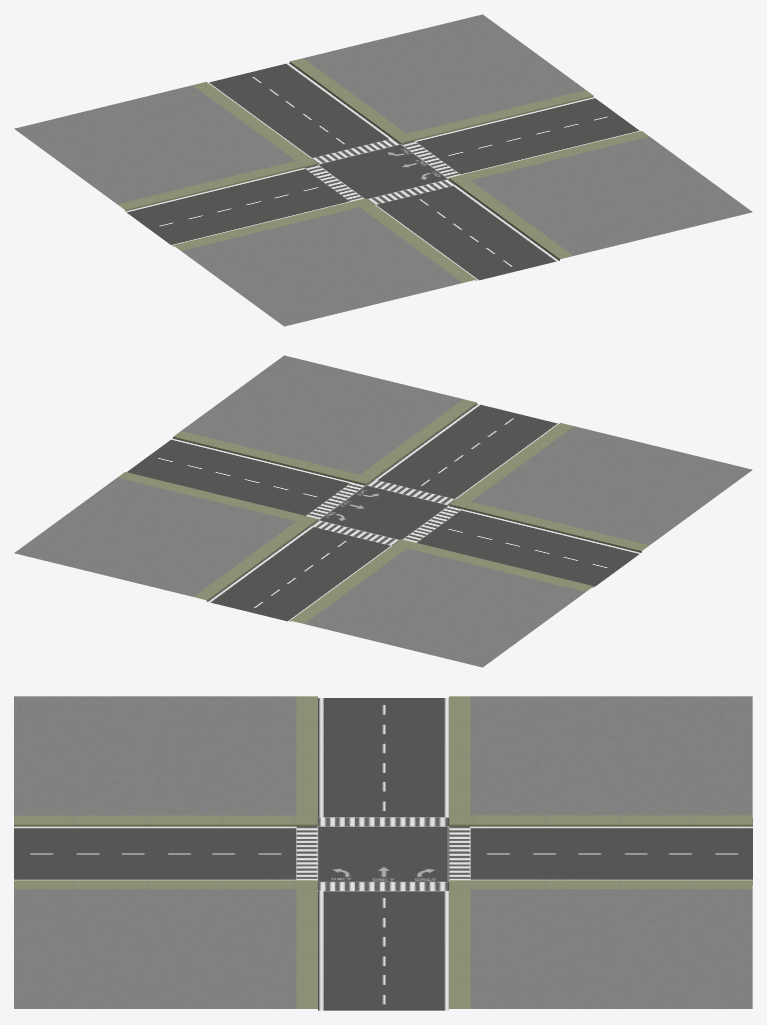
File: Road_Inter.fbx
3 views of the same model, one above another, from view 1: azimuth 30°, elevation 25°; view 2: azimuth 150°, elevation 25°; view 3: azimuth 270°, elevation 25° (orthographic). The views are drawn at different scales.
Visible parts, largest first — view 1: Road_Inter; view 2: Road_Inter; view 3: Road_Inter.
Boxes of the visible parts, bbox=[...] form: Road_Inter: bbox=[14, 14, 752, 326]; Road_Inter: bbox=[14, 355, 752, 667]; Road_Inter: bbox=[14, 696, 752, 1010].
Bounding box in the file's own units: 0.4066 × 0.00114 × 0.4062.
1 material, 1 textured.
